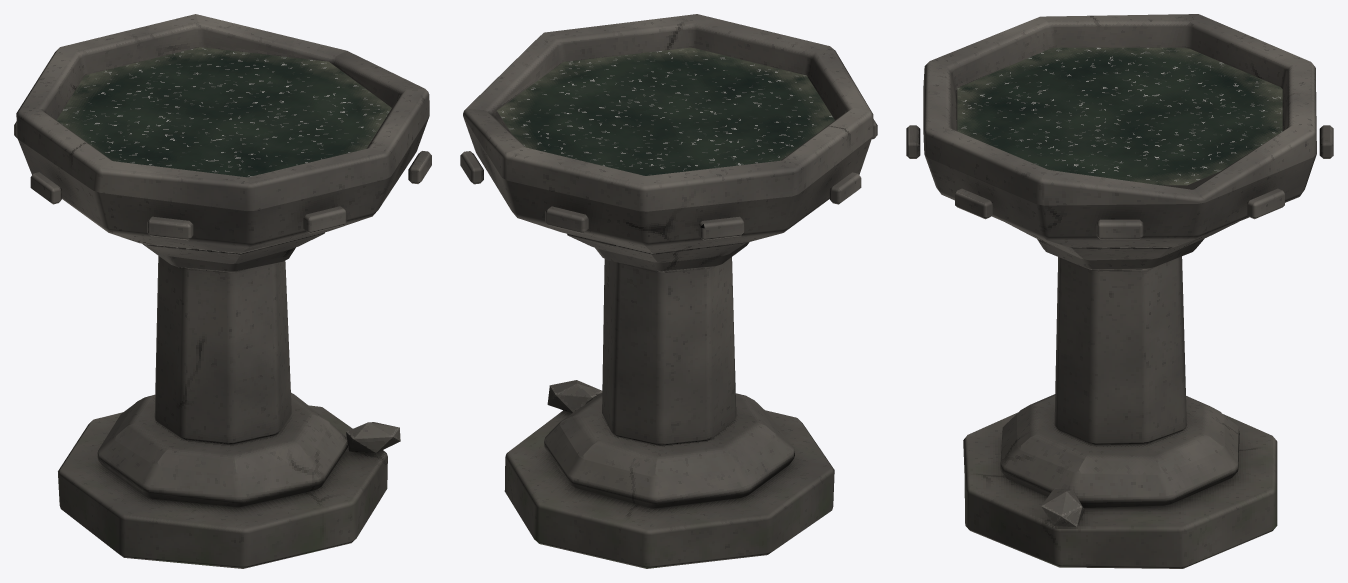
The model's file is font.glb.
3 views of the same model, side by side, from view 1: azimuth 30°, elevation 25°; view 2: azimuth 150°, elevation 25°; view 3: azimuth 270°, elevation 25° (orthographic).
Parts seen in each view (by area): view 1: HolyWaterFont; view 2: HolyWaterFont; view 3: HolyWaterFont.
Boxes of the visible parts, <box> form: HolyWaterFont: <box>14,14,431,568</box>; HolyWaterFont: <box>460,14,877,568</box>; HolyWaterFont: <box>906,14,1333,568</box>.
Size of the model in its own units: 0.91 by 0.9655 by 0.91.
Materials: 1 (1 with a texture image).
